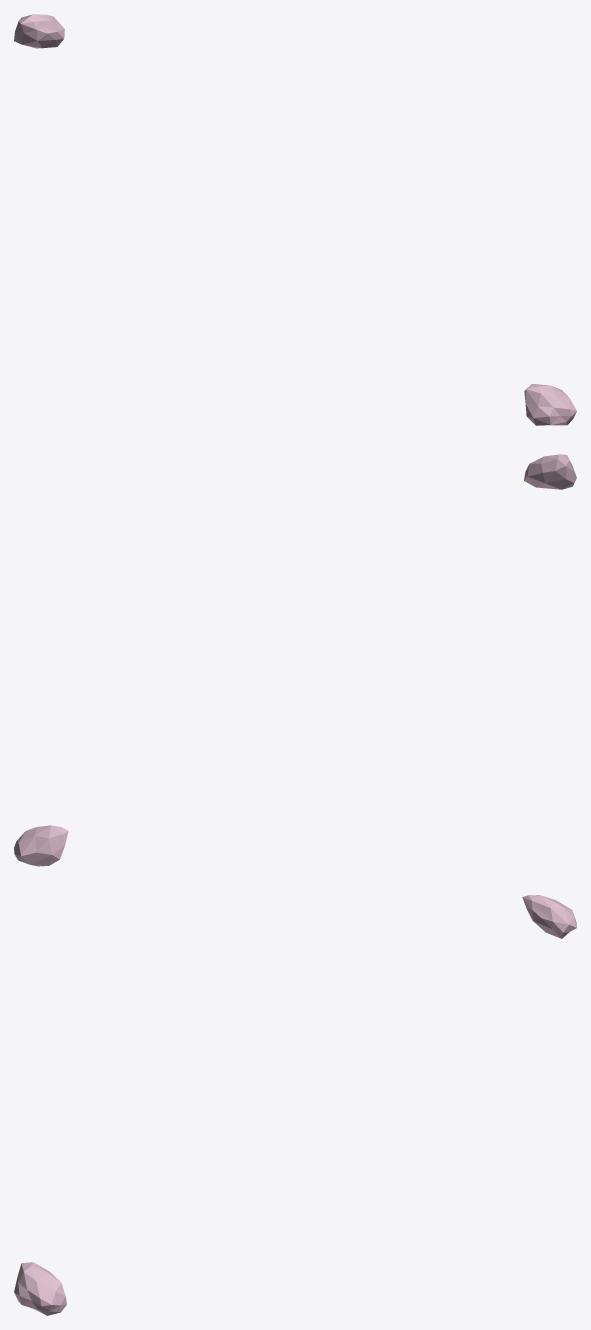
3 views of the same model, one above another, from view 1: azimuth 30°, elevation 25°; view 2: azimuth 150°, elevation 25°; view 3: azimuth 330°, elevation 25° (orthographic).
Parts seen in each view (by area): view 1: 781.obj; view 2: 781.obj; view 3: 781.obj.
Boxes of the visible parts, <box> form: 781.obj: <box>14,14,576,425</box>; 781.obj: <box>14,454,576,866</box>; 781.obj: <box>14,895,576,1315</box>.
Bounding box in the file's own units: 218 × 170 × 4084.
